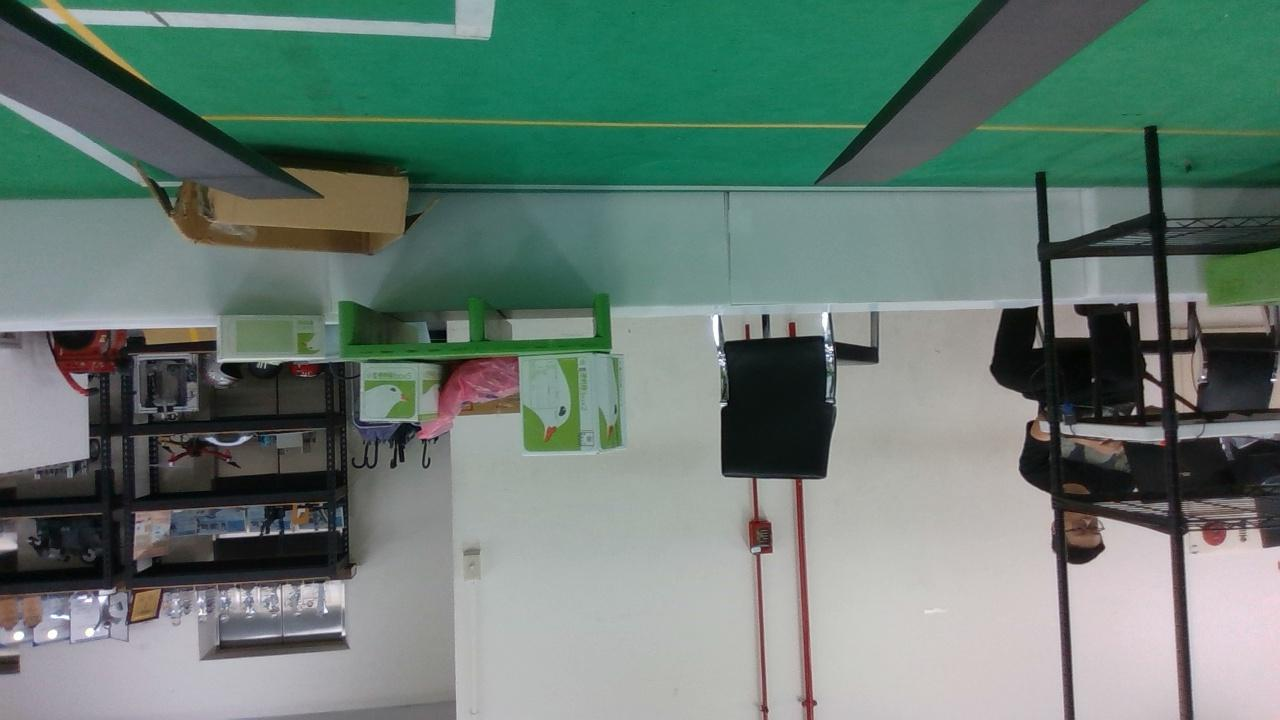Pallet: (337, 297, 610, 359)
